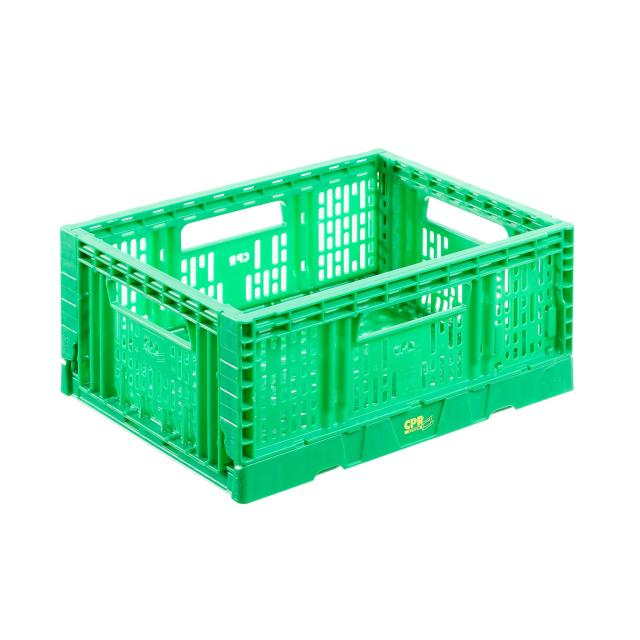basket: (27, 115, 615, 534)
